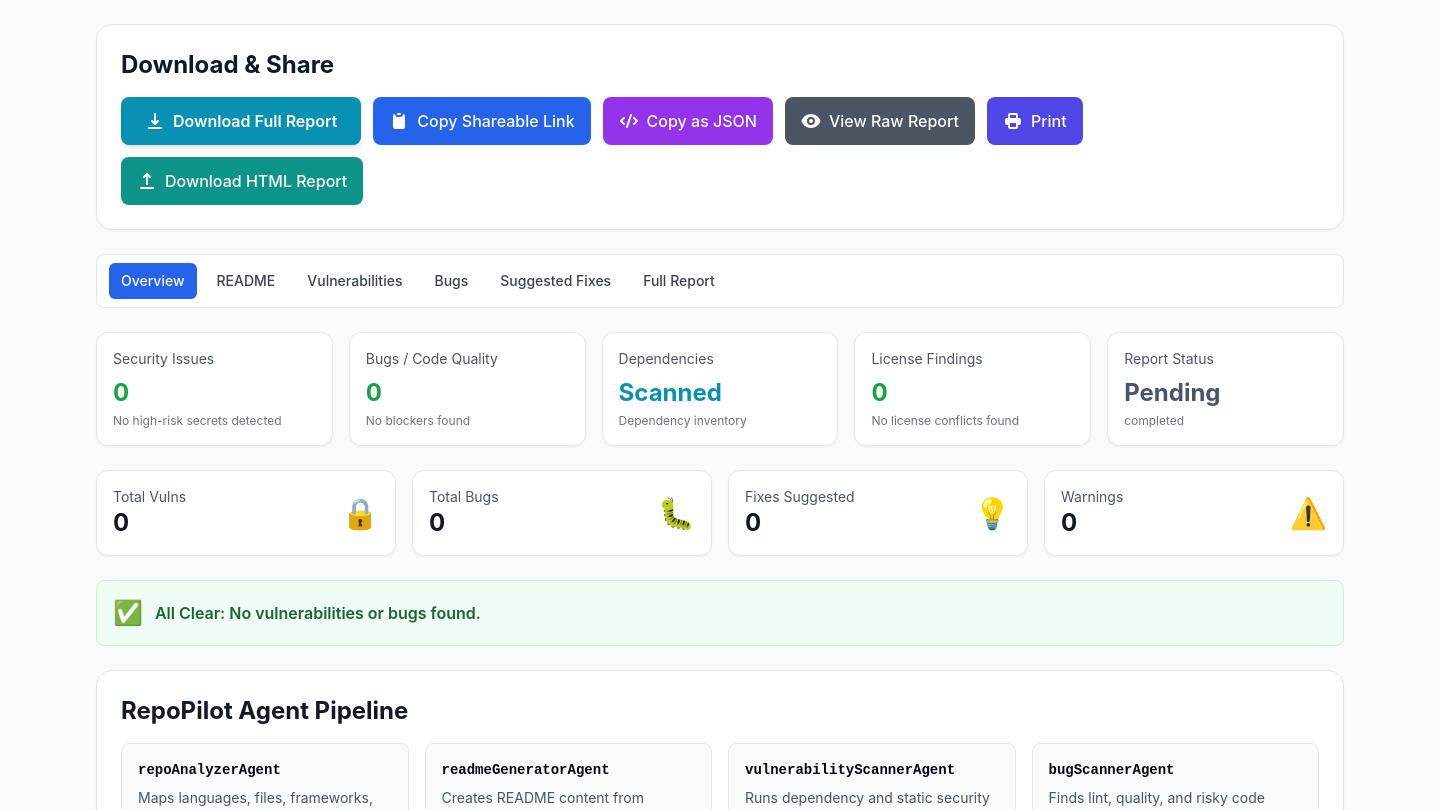
it: ResultsDashboard › Rendering › shows the code quality empty state when bugs array is empty
Click the tab "Bugs" at (451, 281), box top-left (422, 263), bottom-right (480, 299)
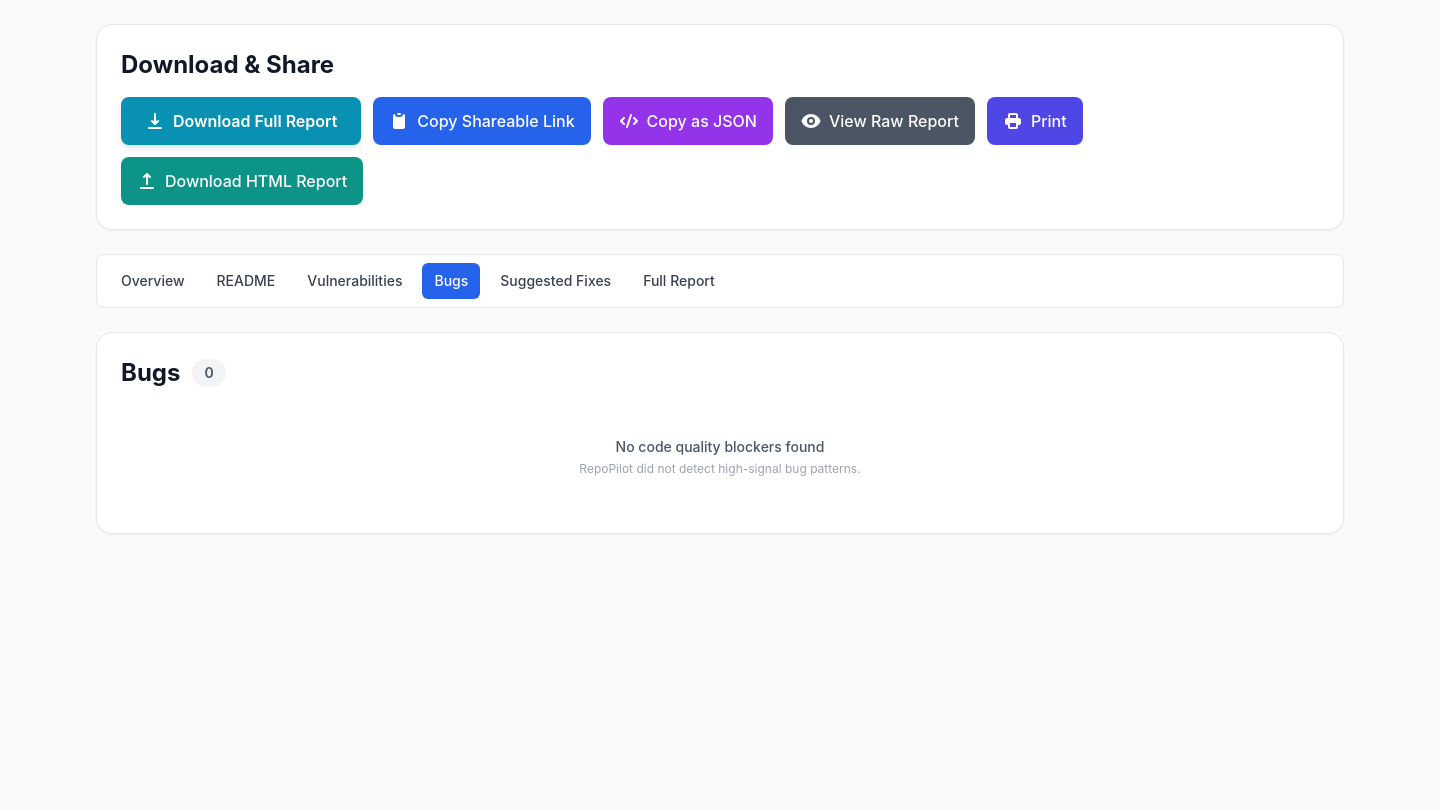
expect the text "No code quality blockers found" is shown: met, box top-left (616, 438), bottom-right (824, 455)
